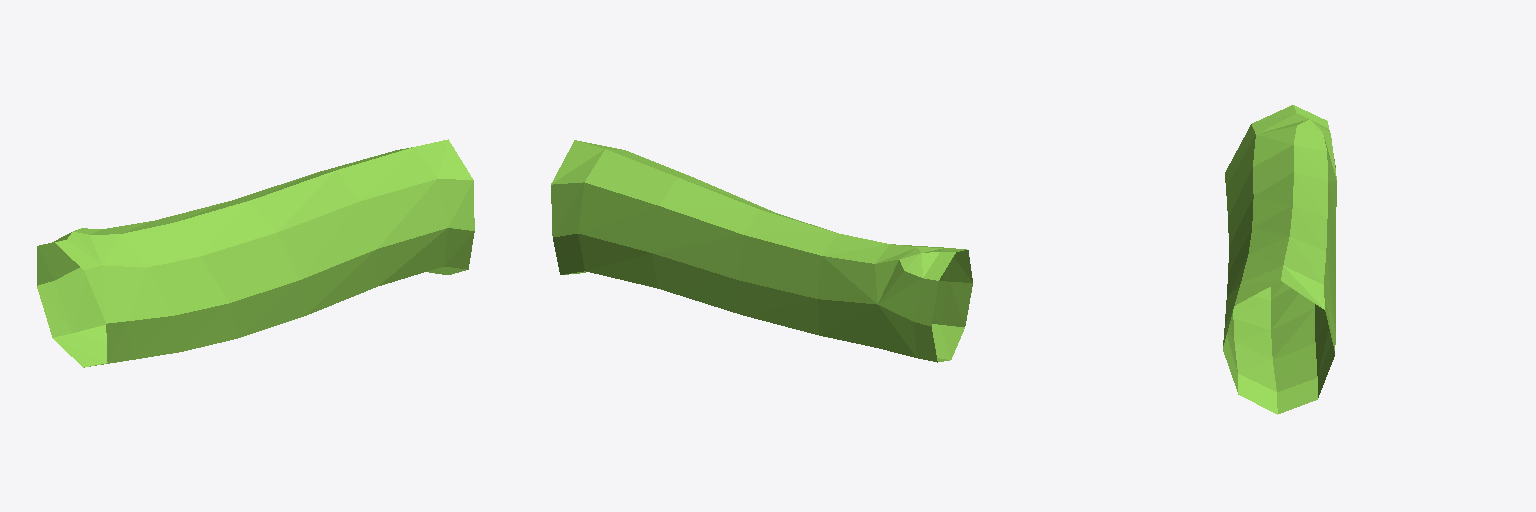
File: right_arm.obj
3 renders of one model, left to right at view 1: azimuth 30°, elevation 25°; view 2: azimuth 150°, elevation 25°; view 3: azimuth 270°, elevation 25°, orthographic.
Visible parts, largest first — view 1: Stickman_Cube.001_Stickman_Cube.013; view 2: Stickman_Cube.001_Stickman_Cube.013; view 3: Stickman_Cube.001_Stickman_Cube.013.
Part boxes in pixels (x1,y1,x2,y2): Stickman_Cube.001_Stickman_Cube.013: (37, 139, 474, 367); Stickman_Cube.001_Stickman_Cube.013: (551, 140, 972, 362); Stickman_Cube.001_Stickman_Cube.013: (1223, 105, 1336, 414).
Bounding box in the file's own units: 1.47 × 0.499 × 0.3744.